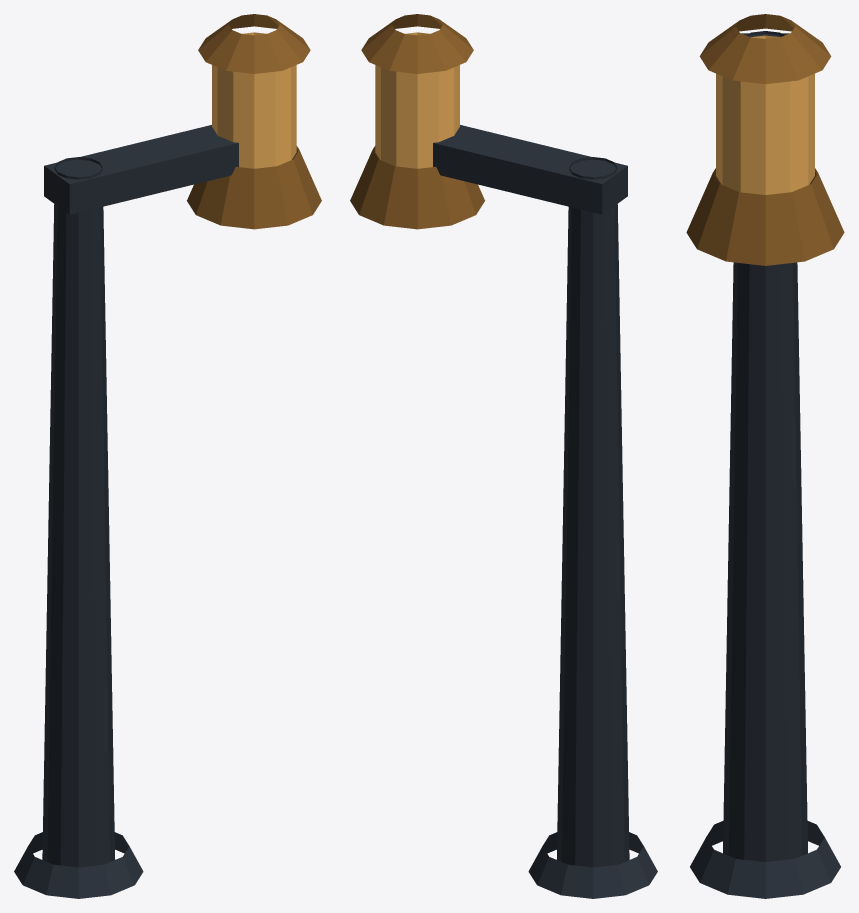
Rendered from street-lamp.obj.
3 views of the same model, side by side, from view 1: azimuth 30°, elevation 25°; view 2: azimuth 150°, elevation 25°; view 3: azimuth 270°, elevation 25° (orthographic). The views are drawn at different scales.
Bounding box in the file's own units: 1.19 × 3.15 × 0.48.
